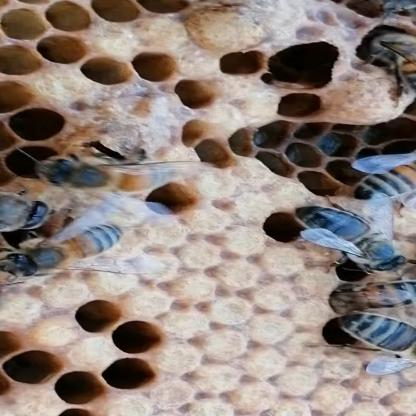bee: (0, 134, 207, 284), (0, 209, 191, 288), (297, 205, 416, 294), (335, 6, 416, 87)
